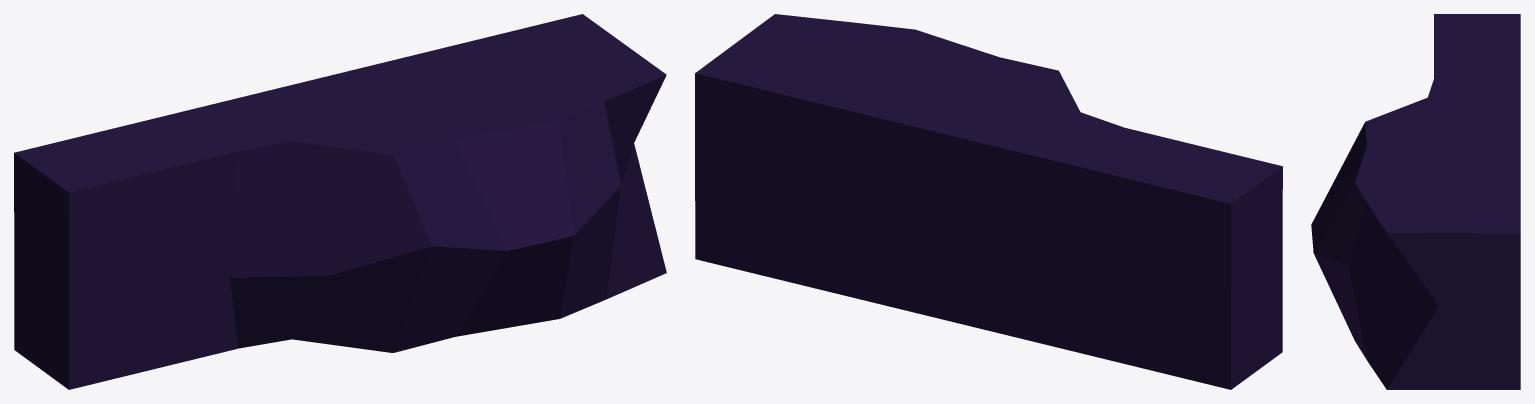
Rendered from cave_corner_middle_001_msh.fbx.
3 views of the same model, side by side, from view 1: azimuth 30°, elevation 25°; view 2: azimuth 150°, elevation 25°; view 3: azimuth 270°, elevation 25° (orthographic). The views are drawn at different scales.
Visible parts, largest first — view 1: cave_corner_middle_001_msh; view 2: cave_corner_middle_001_msh; view 3: cave_corner_middle_001_msh.
Part boxes in pixels (box(x1,y1,x2,y2)): cave_corner_middle_001_msh: box(14, 14, 666, 389); cave_corner_middle_001_msh: box(695, 14, 1282, 389); cave_corner_middle_001_msh: box(1311, 14, 1520, 389).
Bounding box in the file's own units: 600 × 200 × 242.
